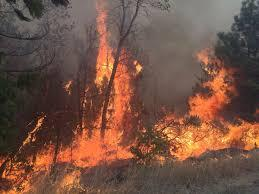fire: (0, 2, 146, 191), (153, 45, 259, 161)
